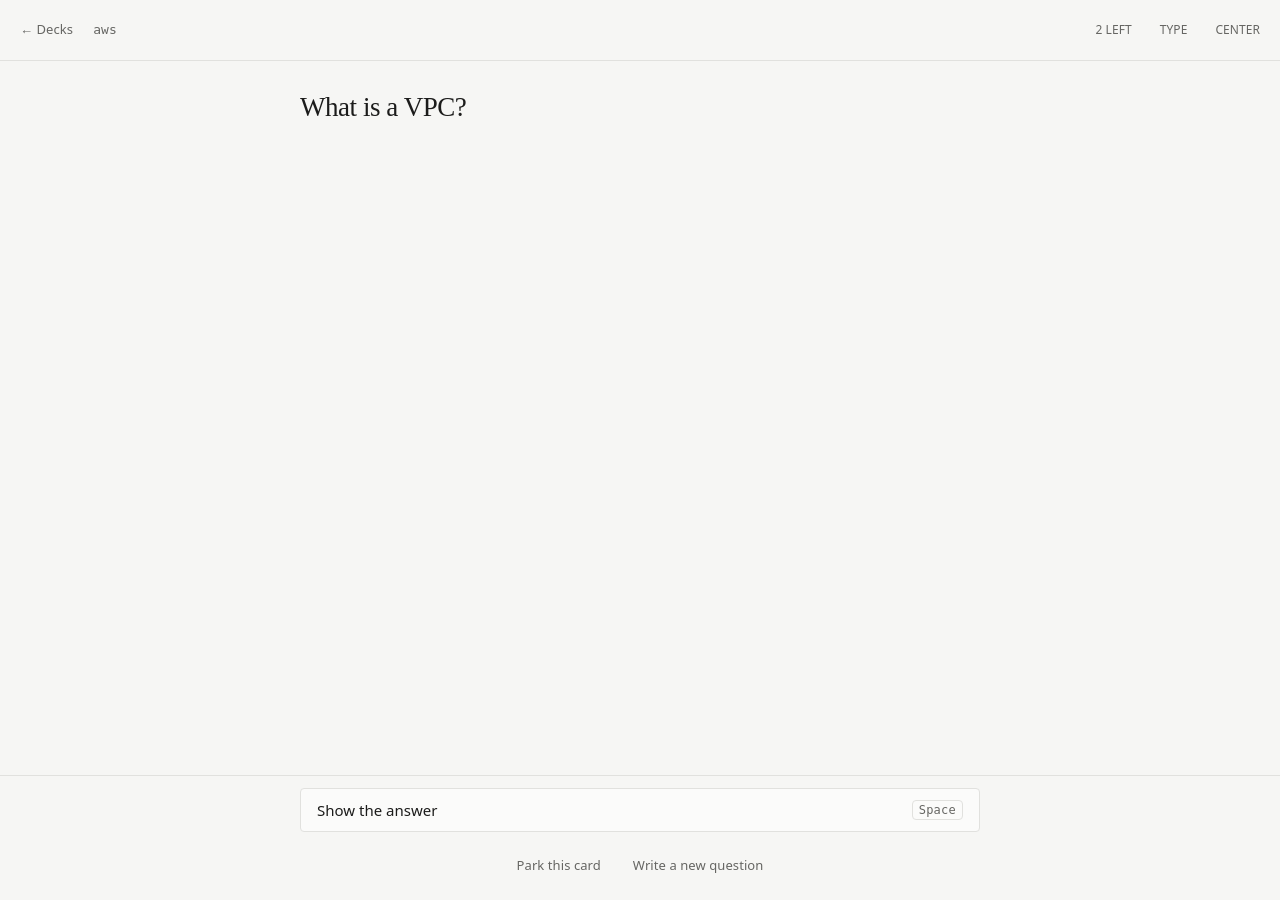
Test: ReviewSession on a parked card › sends a rating queued behind a refused one, naming the unlanded text, and says it failed
This screenshot has width=1280, height=900.
Check: the field with class "cm-content" is shown, box [300,92,466,122]
Click the button "Show the answer Space".
click(377, 810)  # box [300,788,980,832]
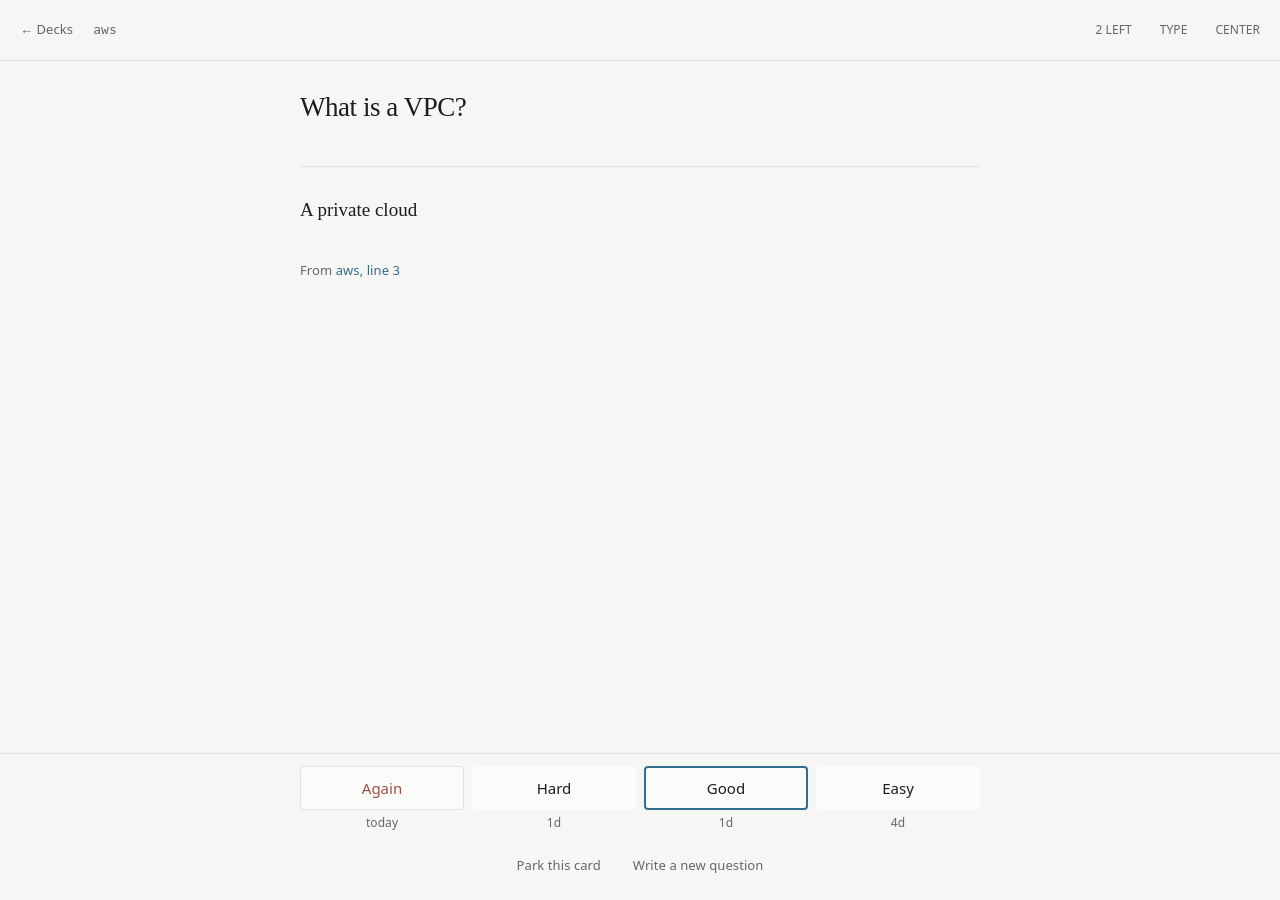
Click the button "Good".
click(726, 788)  # box [644,766,808,810]
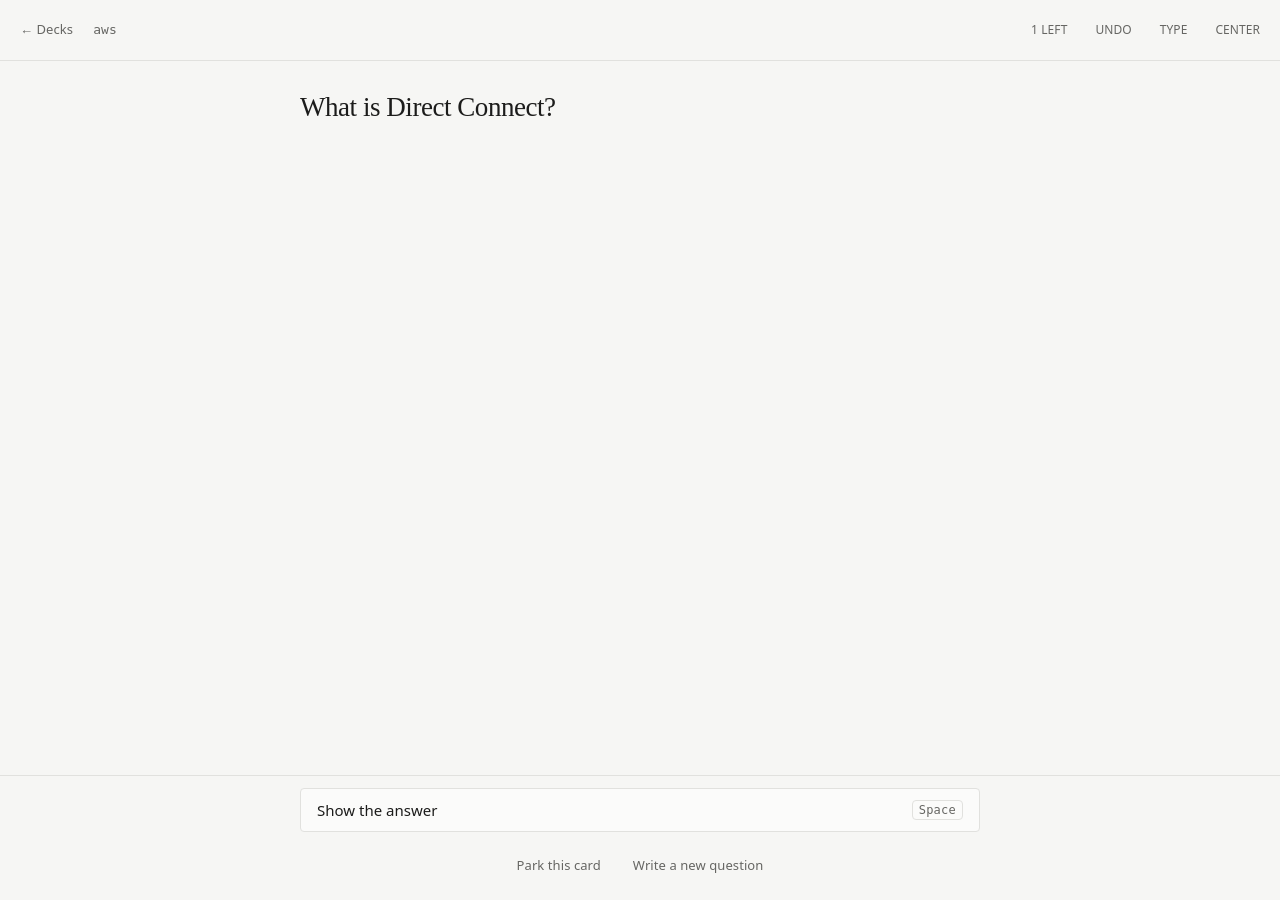
Click the button "Show the answer Space".
click(377, 810)  # box [300,788,980,832]
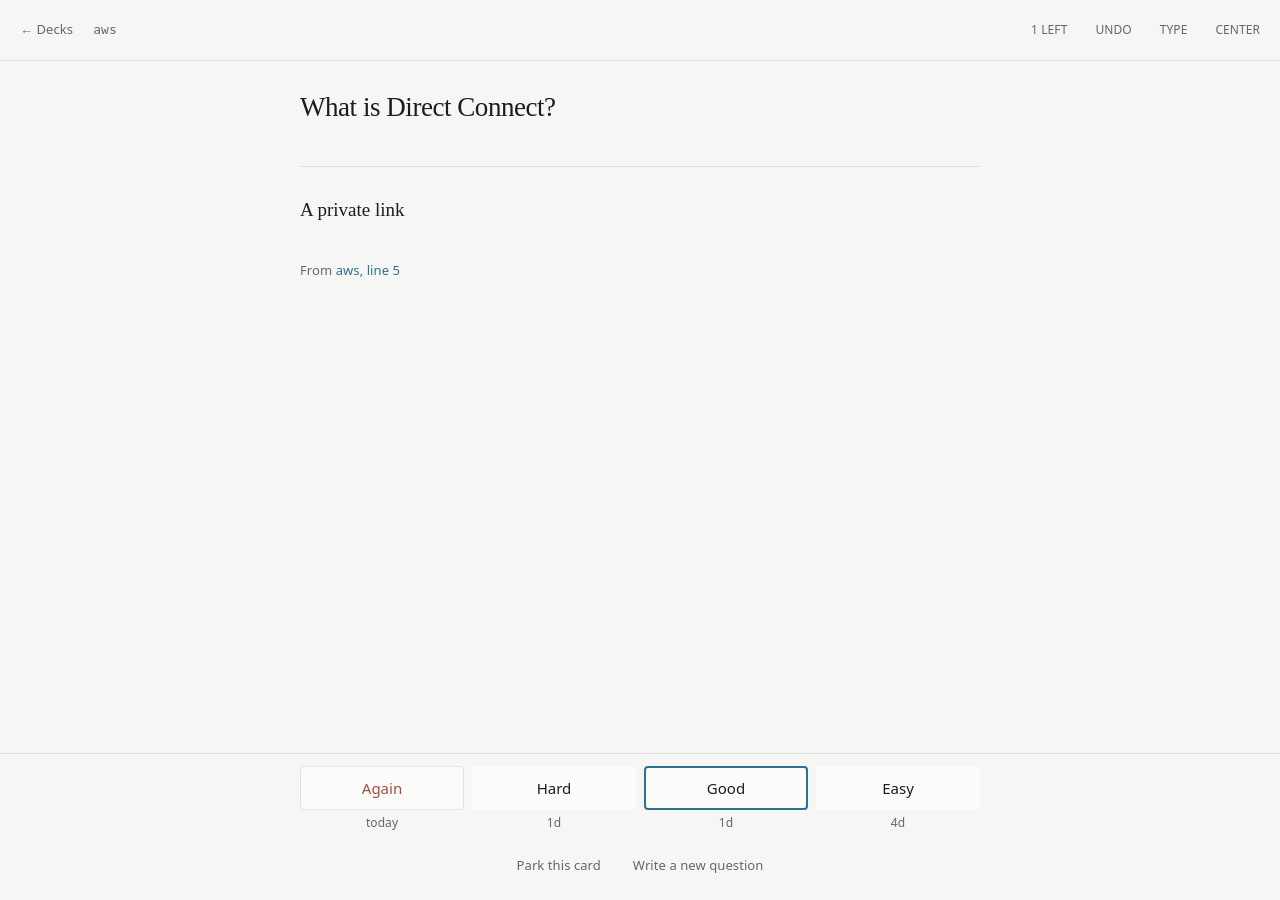
Click the button "Good".
click(726, 788)  # box [644,766,808,810]
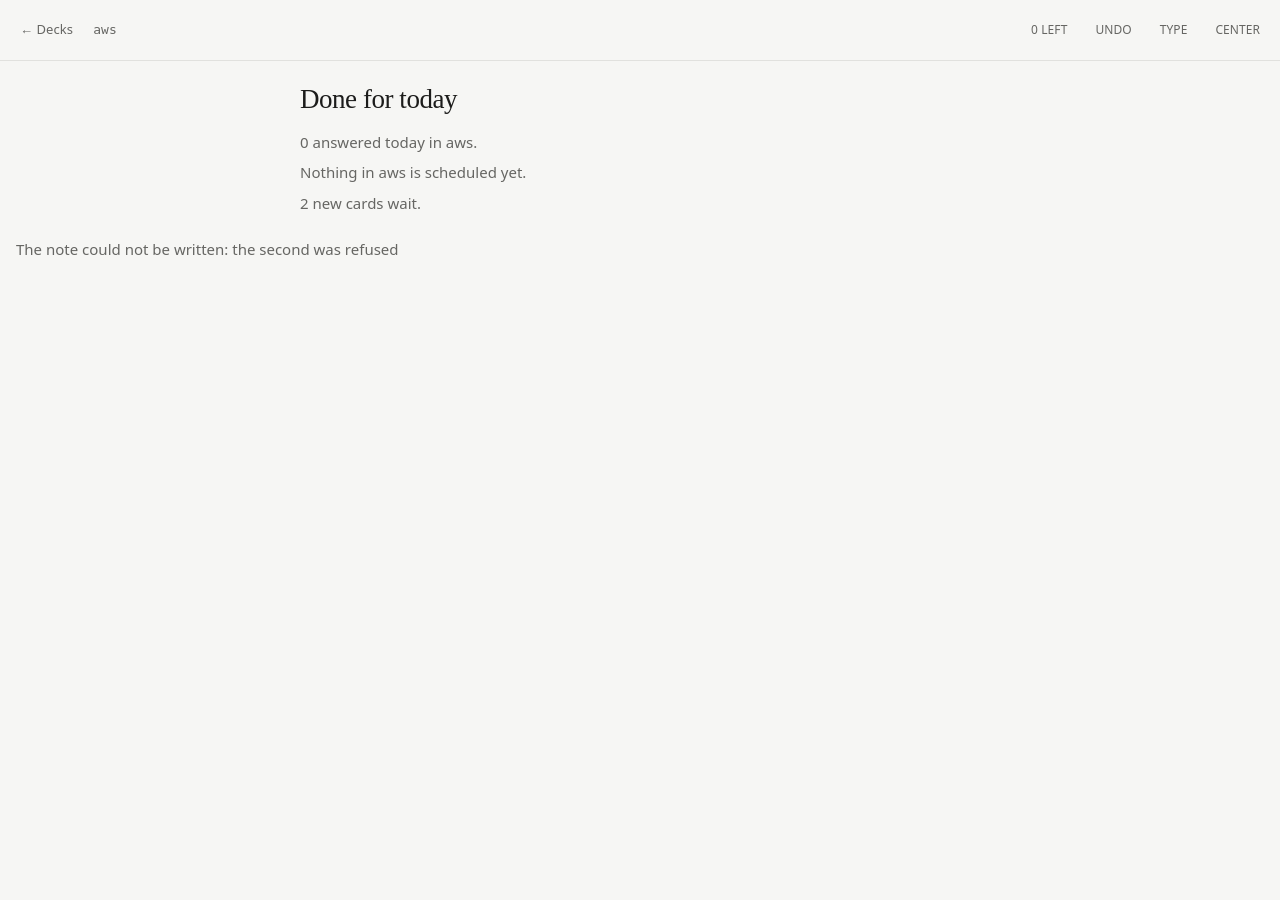
Check: the text "The note could not be written: the second was refused" is shown, box [16,239,398,259]
